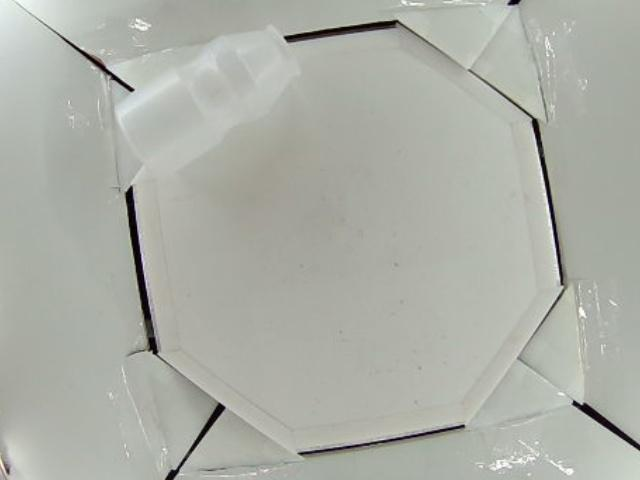Bottle: (115, 24, 303, 181)
